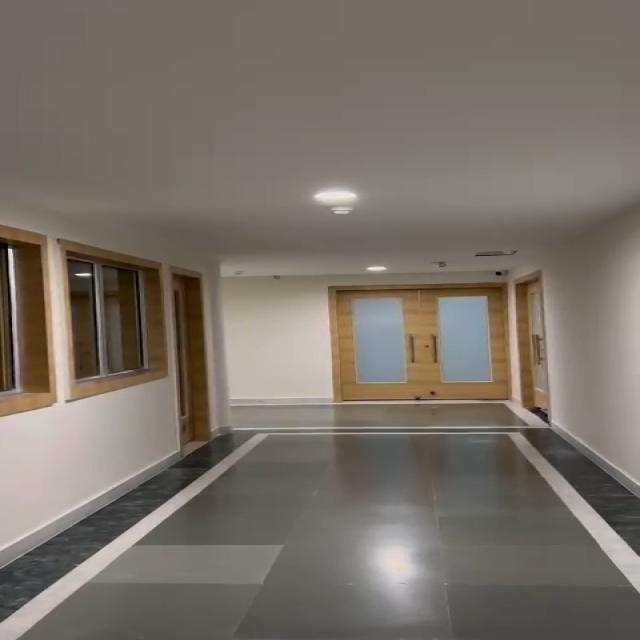door: (342, 277, 552, 409)
floor: (230, 408, 543, 640)
wall: (552, 219, 640, 430), (206, 262, 317, 403), (0, 174, 234, 229), (14, 426, 180, 482)
